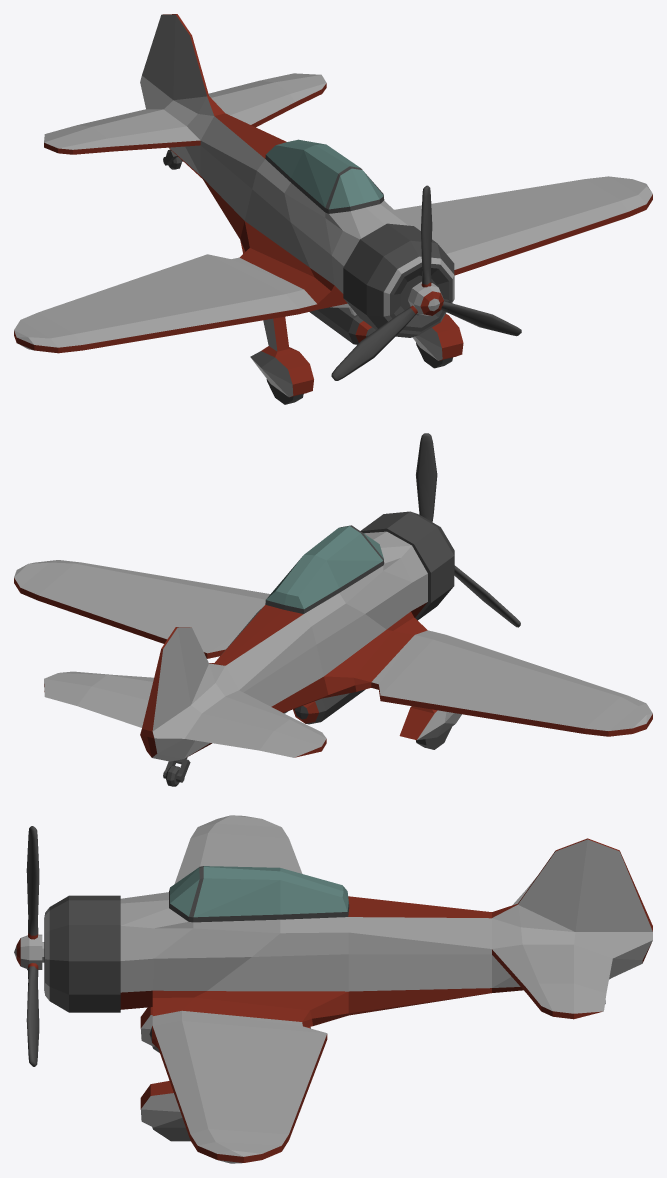
Rendered from modernplane.fbx.
3 renders of one model, top to bottom at view 1: azimuth 30°, elevation 25°; view 2: azimuth 150°, elevation 25°; view 3: azimuth 270°, elevation 25°, orthographic. The views are drawn at different scales.
Parts seen in each view (by area): view 1: main, wheels, fans, bomb, nose; view 2: main, fans, wheels, bomb; view 3: main, fans, wheels, nose.
Part boxes in pixels (left/top/right/bottom): main: left=14, top=14, right=652, bottom=353; wheels: left=163, top=149, right=463, bottom=404; fans: left=331, top=185, right=521, bottom=380; bomb: left=309, top=307, right=375, bottom=344; nose: left=408, top=281, right=443, bottom=315; main: left=14, top=511, right=652, bottom=761; fans: left=416, top=433, right=520, bottom=627; wheels: left=163, top=706, right=461, bottom=786; bomb: left=293, top=689, right=365, bottom=724; main: left=44, top=815, right=652, bottom=1163; fans: left=26, top=826, right=39, bottom=1066; wheels: left=140, top=1000, right=605, bottom=1141; nose: left=14, top=934, right=44, bottom=969.
Size of the model in its own units: 779 by 288 by 617.
